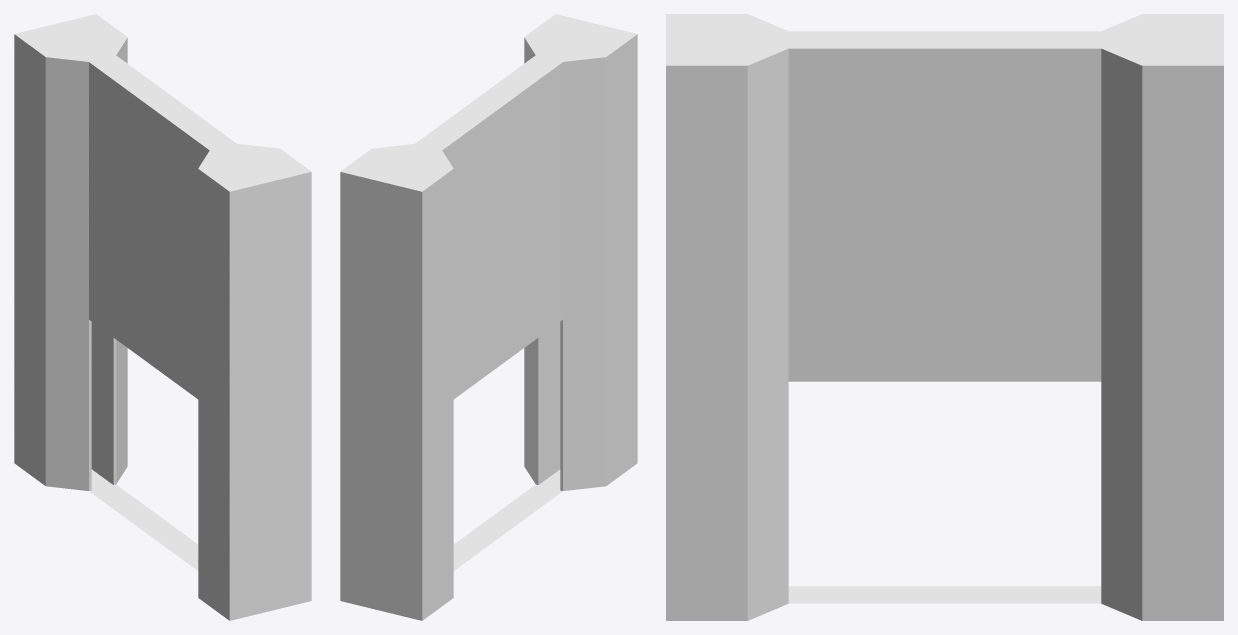
The model's file is Thresher-Room-Wall-Door.obj.
3 views of the same model, side by side, from view 1: azimuth 30°, elevation 25°; view 2: azimuth 150°, elevation 25°; view 3: azimuth 270°, elevation 25° (orthographic). The views are drawn at different scales.
Parts seen in each view (by area): view 1: Thresher-Room-Wall-Door; view 2: Thresher-Room-Wall-Door; view 3: Thresher-Room-Wall-Door.
Boxes of the visible parts, x1,y1,x2,y2 form: Thresher-Room-Wall-Door: (14, 14, 311, 620); Thresher-Room-Wall-Door: (340, 14, 637, 620); Thresher-Room-Wall-Door: (666, 14, 1223, 620).
Size of the model in its own units: 3 by 15 by 13.66.
